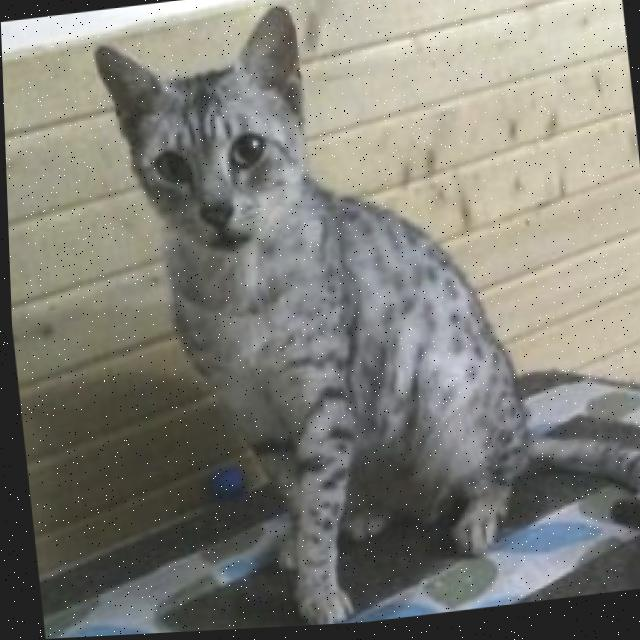Egyptian Mau: (86, 0, 640, 636)
